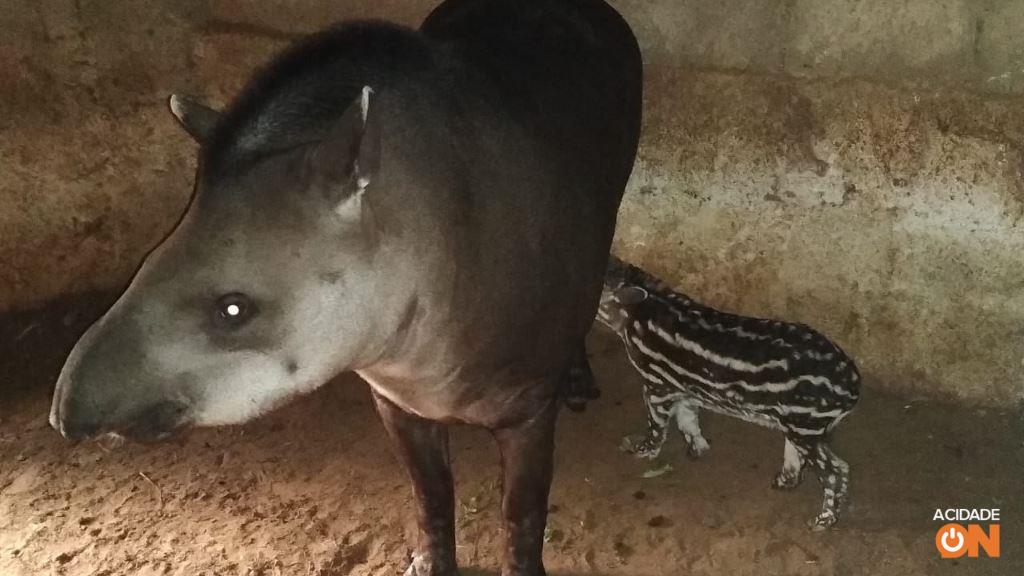Anta: (35, 5, 646, 562), (572, 236, 881, 539)
